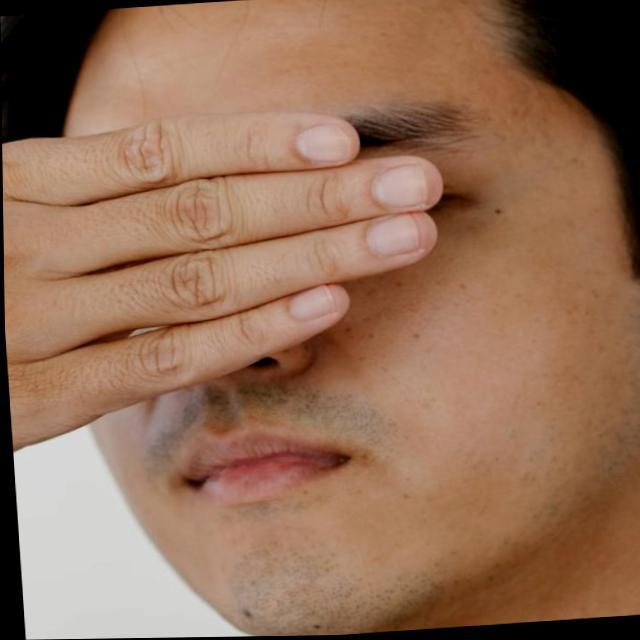7_mano_rostro: (60, 112, 445, 426)
